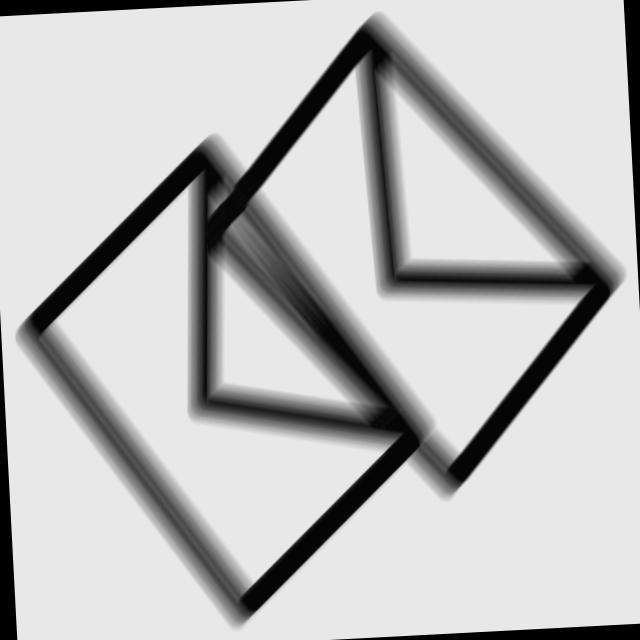letter: (182, 1, 635, 518), (2, 119, 440, 640)
